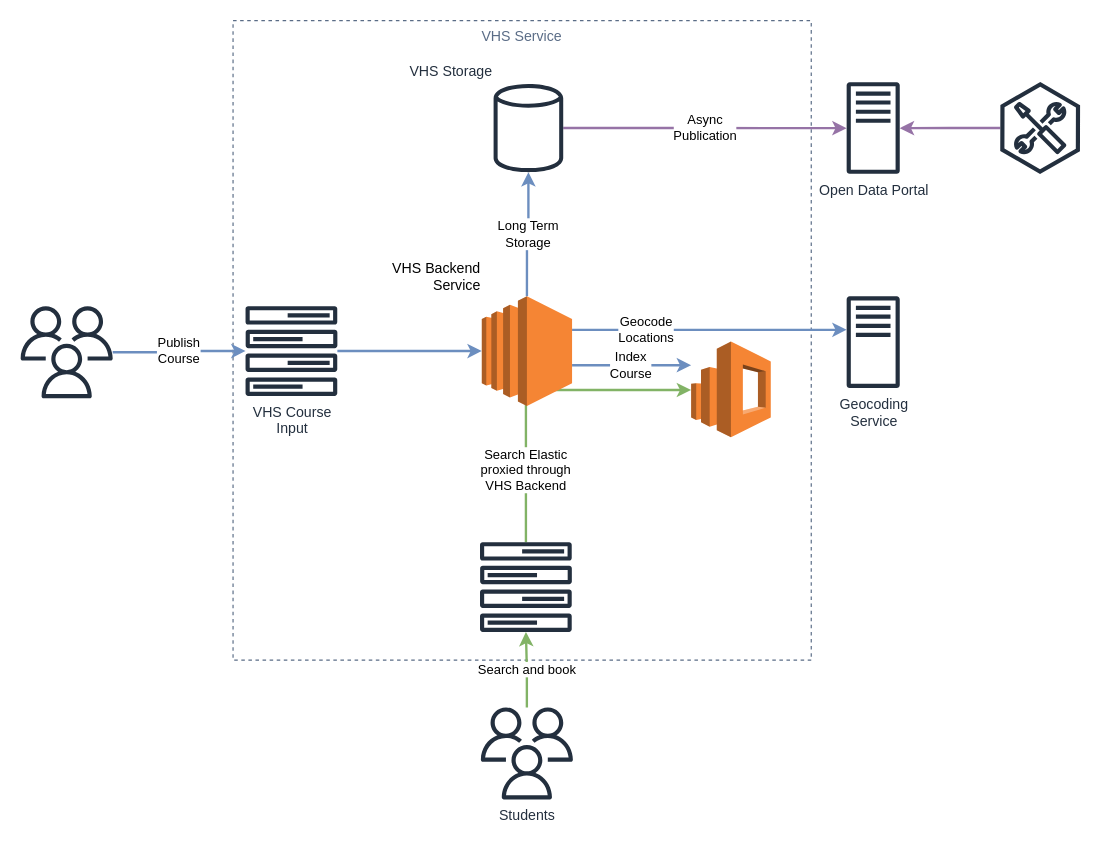
Image size: 1100x845. Some labels were removed from this diagram. Each missing label, with the centre of its shape:
"Course Authors" goes at point 66,352.
"Elastic Search" goes at point 730,388.
"Other Applications" goes at point 1039,127.
"VHS Public Website" goes at point 525,586.
